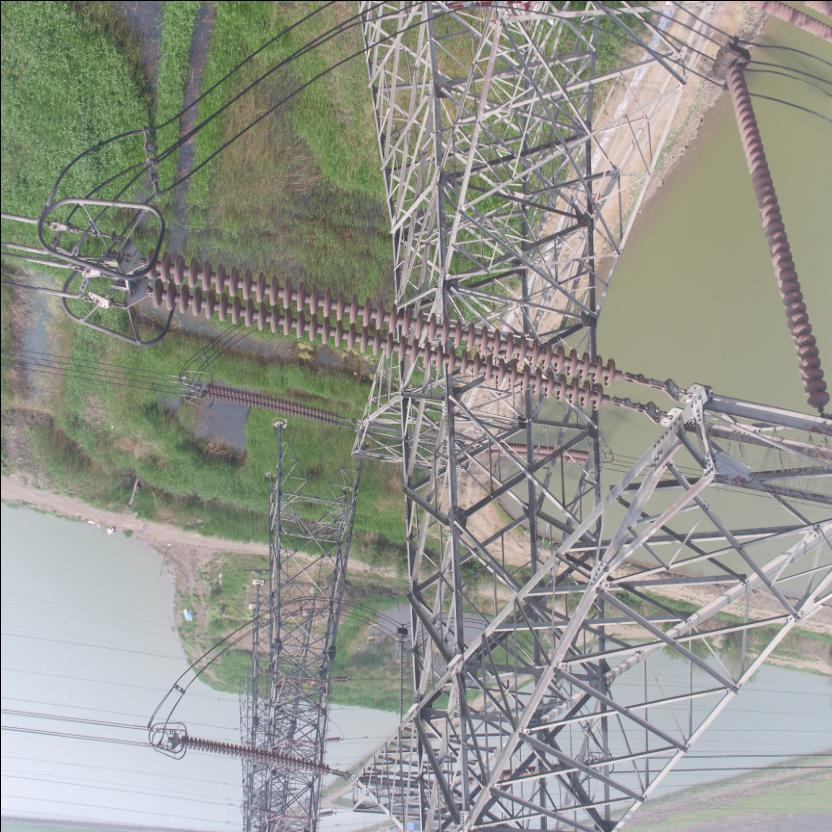insulator: (130, 244, 638, 414), (178, 735, 334, 777), (200, 382, 342, 428)
